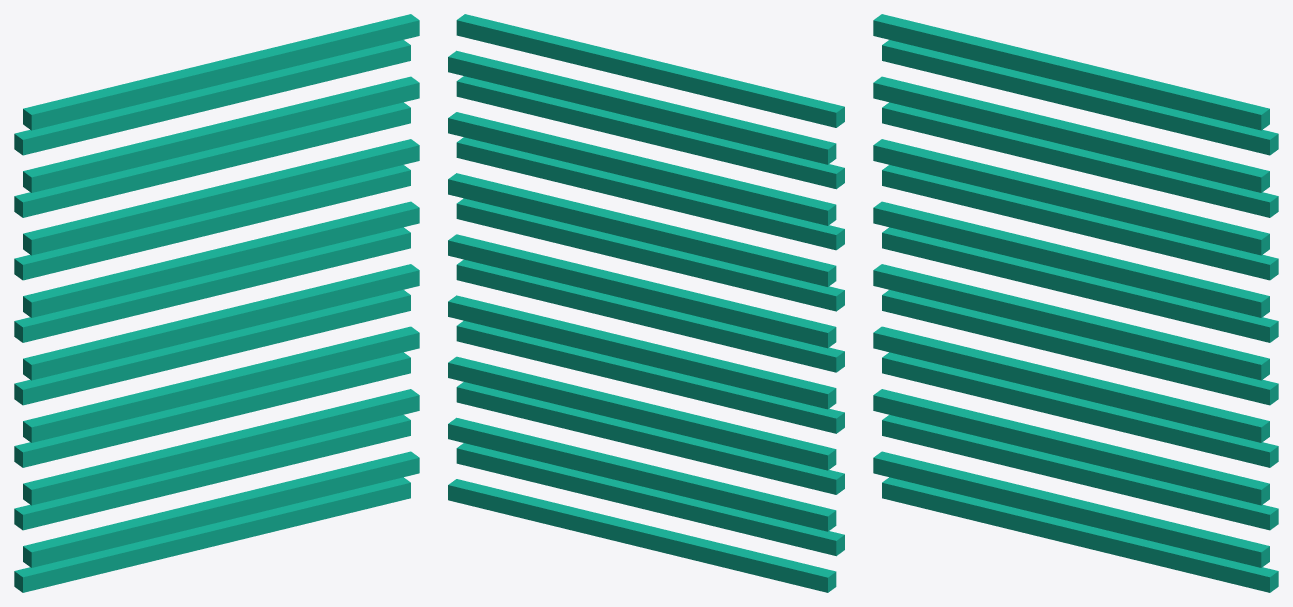
Rendered from wall4_gate_closed.obj.
The picture shows the model from 3 angles, left to right: view 1: azimuth 30°, elevation 25°; view 2: azimuth 150°, elevation 25°; view 3: azimuth 330°, elevation 25°; orthographic projection. The views are drawn at different scales.
Size of the model in its own units: 2.6 by 3.1 by 0.2.
Materials: 1 (1 with a texture image).
